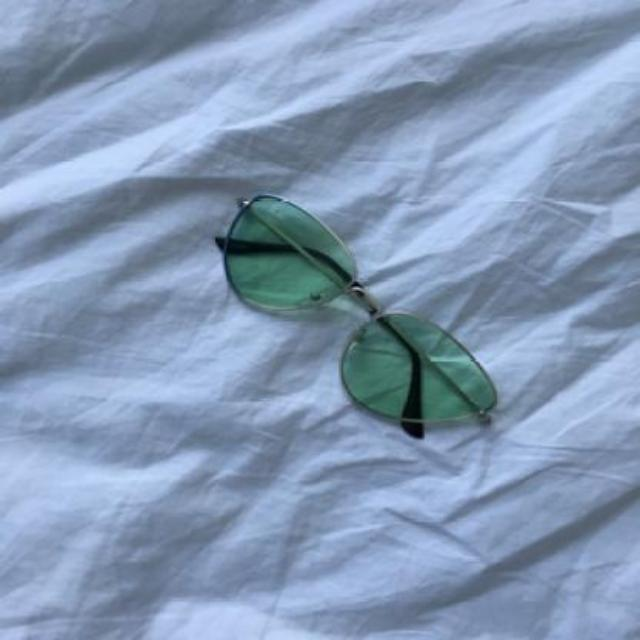sunglasses: (212, 195, 498, 441)
